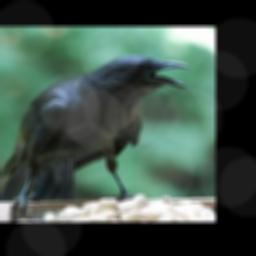Crow: (0, 53, 190, 218)
